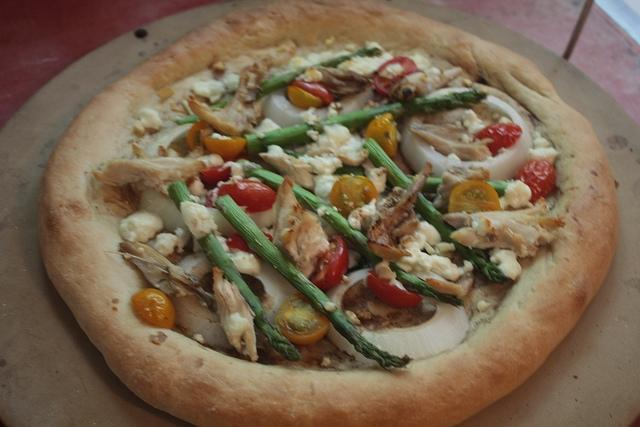asparagus: (236, 160, 464, 310), (214, 194, 410, 367), (168, 180, 302, 362), (363, 138, 509, 284), (243, 86, 488, 155), (256, 48, 381, 100), (406, 174, 508, 198)
onion: (324, 267, 468, 366), (170, 250, 299, 351), (399, 86, 534, 180), (138, 189, 192, 247), (260, 89, 308, 129)
tomato: (275, 293, 330, 346), (308, 234, 349, 291), (329, 172, 378, 219), (367, 270, 423, 308), (514, 159, 556, 204), (448, 179, 502, 214), (218, 180, 276, 212), (131, 288, 176, 329), (373, 56, 418, 96), (472, 123, 522, 156), (366, 112, 398, 159), (288, 80, 334, 106), (204, 136, 248, 160), (287, 84, 324, 108), (186, 120, 212, 150), (199, 166, 233, 186), (227, 232, 250, 252)
